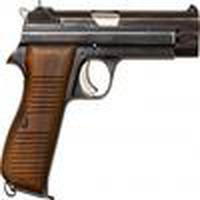gun: (4, 1, 198, 199)
